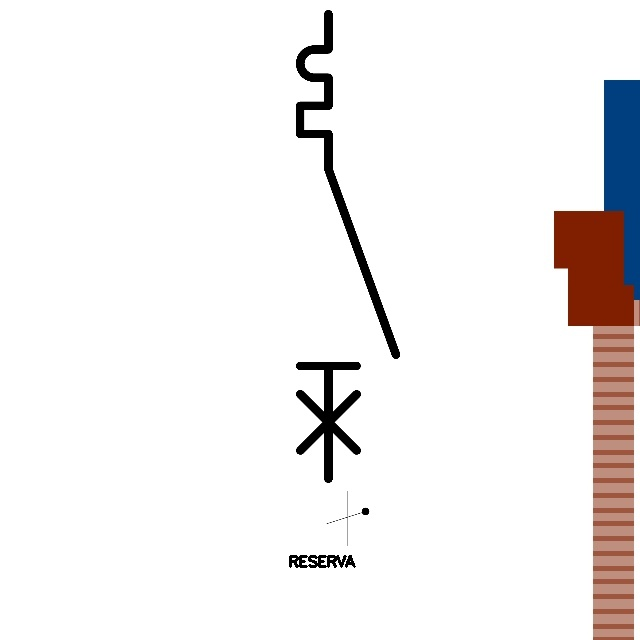interruptor_termomagnetico: (288, 2, 407, 491)
